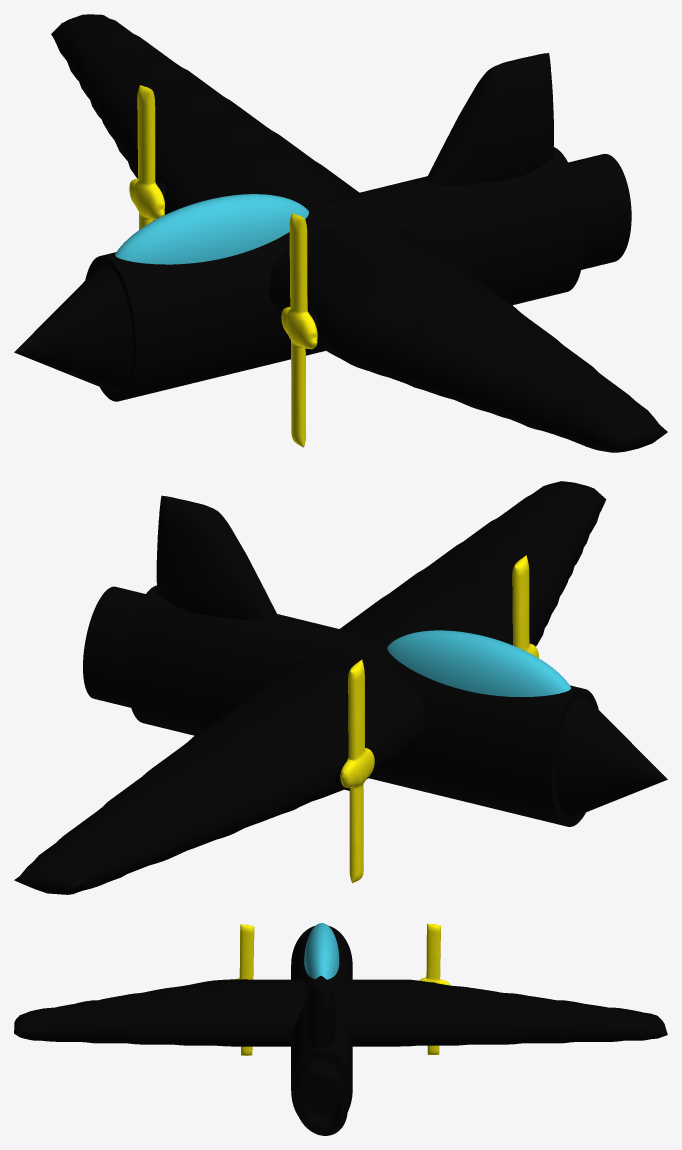
File: PLANE3D_FIGTER_JET.fbx
3 renders of one model, top to bottom at view 1: azimuth 30°, elevation 25°; view 2: azimuth 150°, elevation 25°; view 3: azimuth 270°, elevation 25°, orthographic. The views are drawn at different scales.
Parts seen in each view (by area): view 1: root (×8); view 2: root (×8); view 3: root (×8).
Part boxes in pixels (x1=…): root (×8): x1=14, y1=14, x2=667, y2=452; root (×8): x1=14, y1=481, x2=667, y2=894; root (×8): x1=14, y1=923, x2=667, y2=1135.
Size of the model in its own units: 1.04 by 0.4463 by 1.73.
